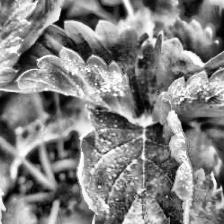Powdery Mildew Leaf: (76, 93, 195, 224), (0, 21, 152, 123), (135, 31, 224, 121)
